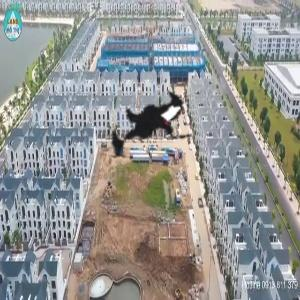drone: (82, 63, 222, 203)
